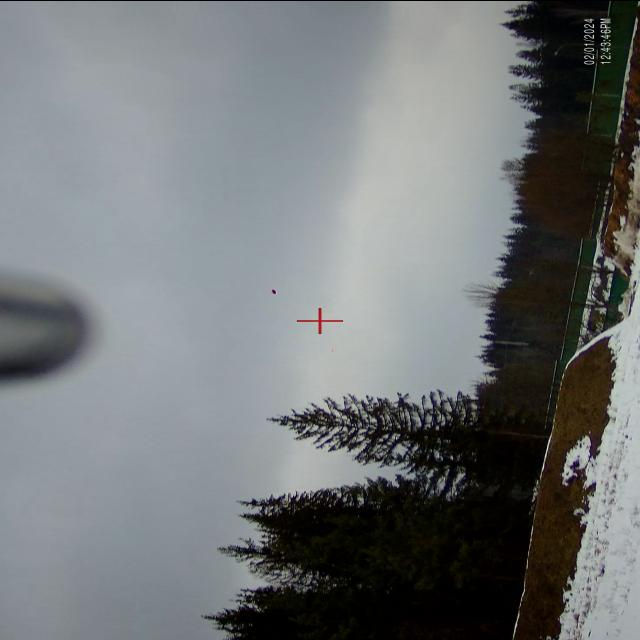entire: (268, 288, 280, 296)
